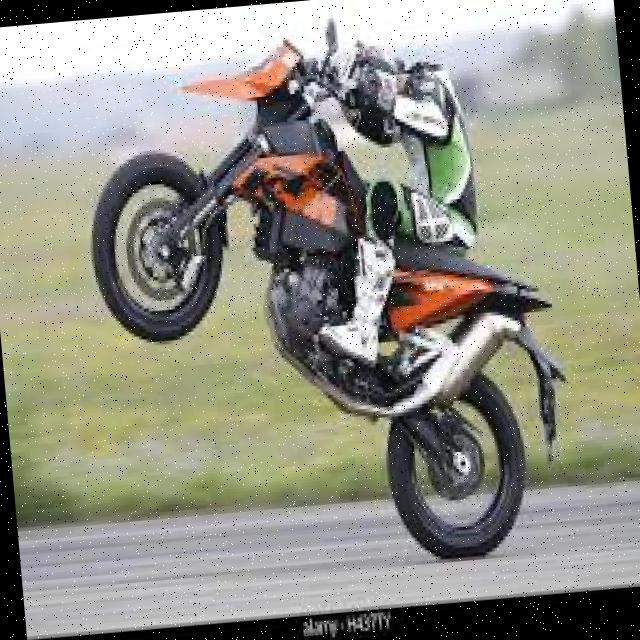Wheeling: (82, 8, 525, 580)
